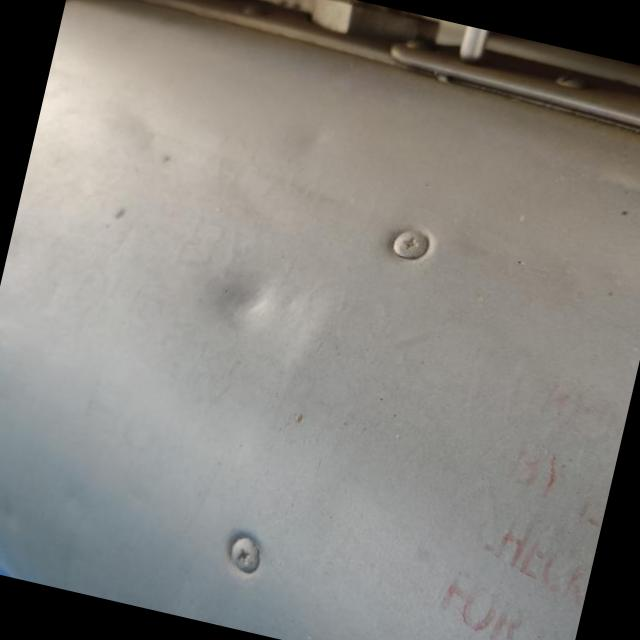Dent: (171, 234, 296, 360)
